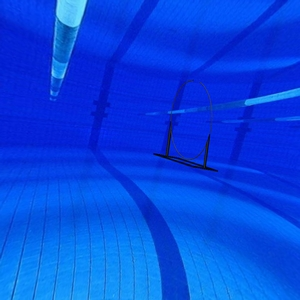circle: (152, 78, 221, 175)
